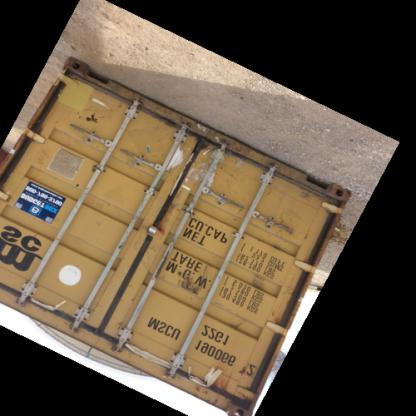Damage: (152, 136, 244, 204), (51, 308, 127, 342), (72, 182, 120, 233), (198, 370, 264, 406), (274, 190, 312, 249), (72, 95, 126, 132), (175, 258, 213, 302), (244, 268, 272, 306)
